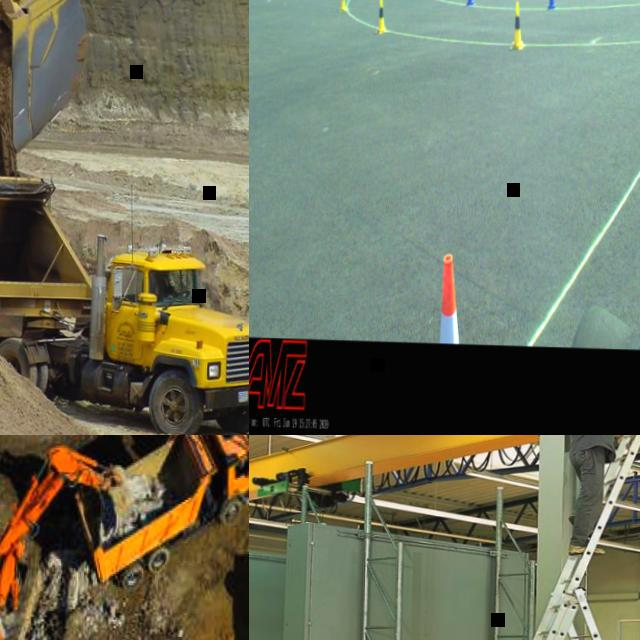NO-Safety Vest: (571, 435, 614, 452)
Person: (564, 435, 640, 555), (152, 270, 179, 296)
Safety Cone: (436, 255, 461, 341), (510, 0, 524, 49), (375, 0, 386, 33), (546, 0, 555, 8), (339, 0, 346, 10)
Safety Vest: (153, 275, 169, 295)
vehicle: (0, 135, 249, 435), (65, 435, 249, 598), (0, 435, 132, 640)
